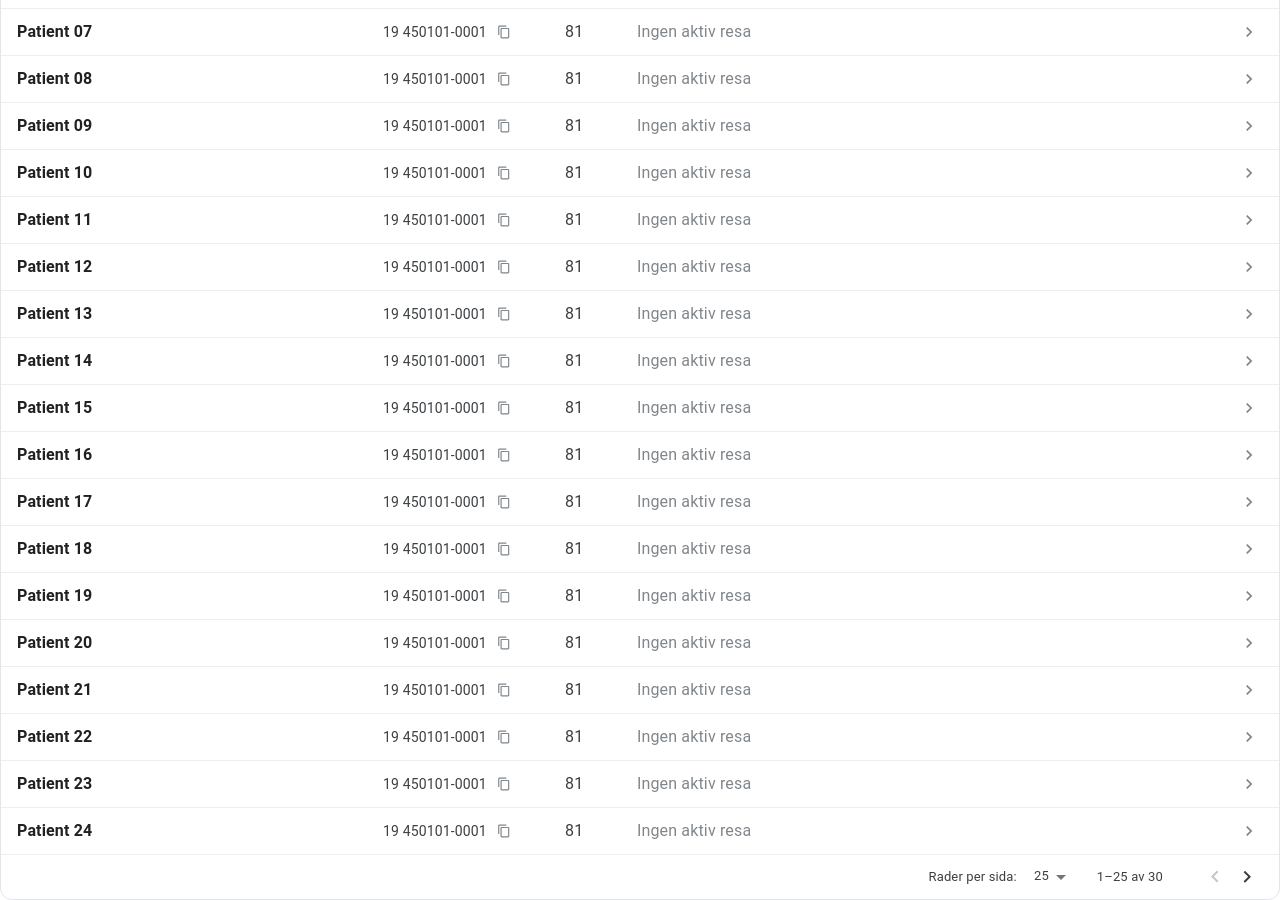
it: PatientTable › paginates 25 rows per page by default
(page scrolled)
Expected: the text "Patient 24" is shown, [17,819,92,843]
Expected: the text "Patient 25" is not shown
Click the button named "Go to next page": (1247, 877) [1231,861,1263,893]
(page scrolled)
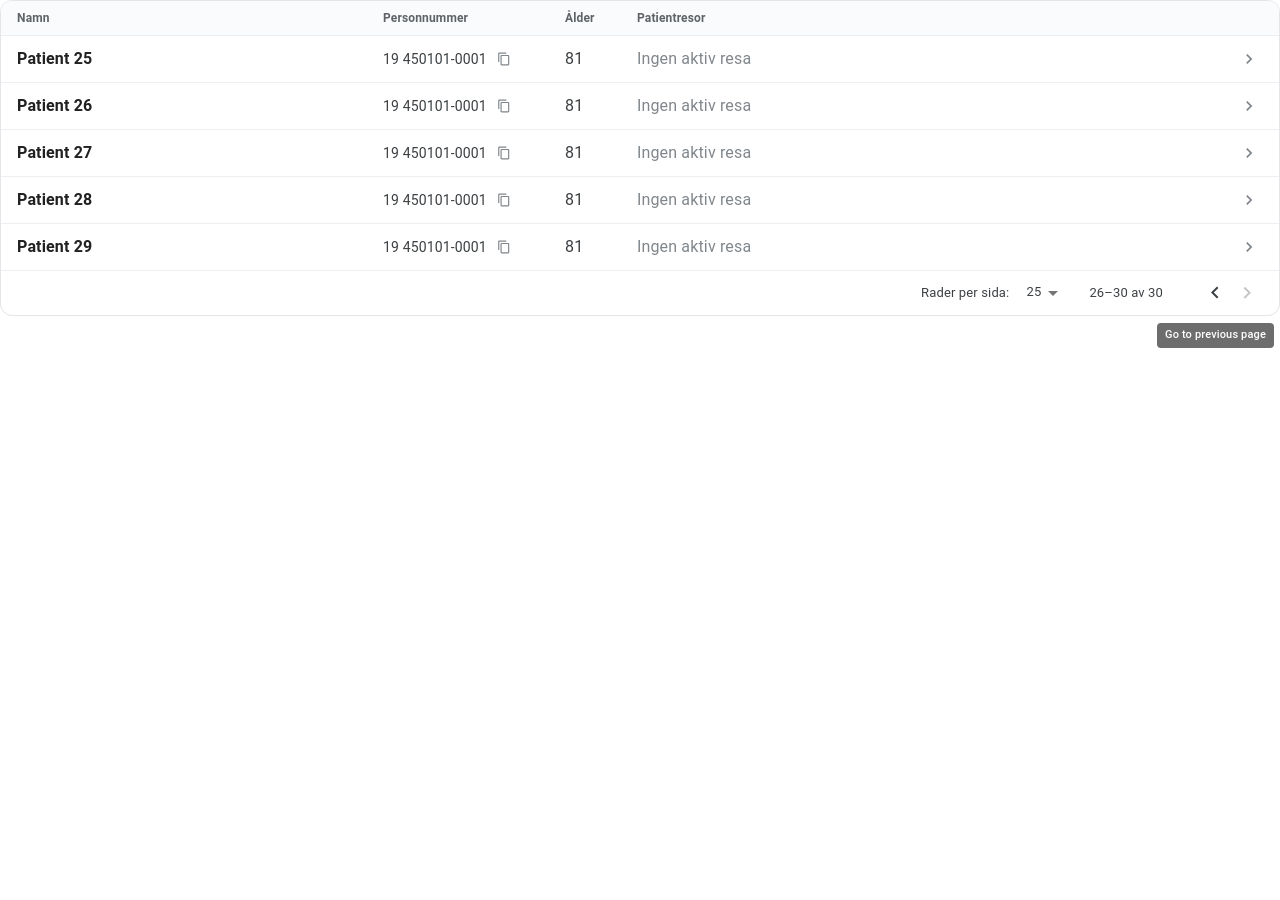
Expected: the text "Patient 25" is shown, [17,47,92,71]
